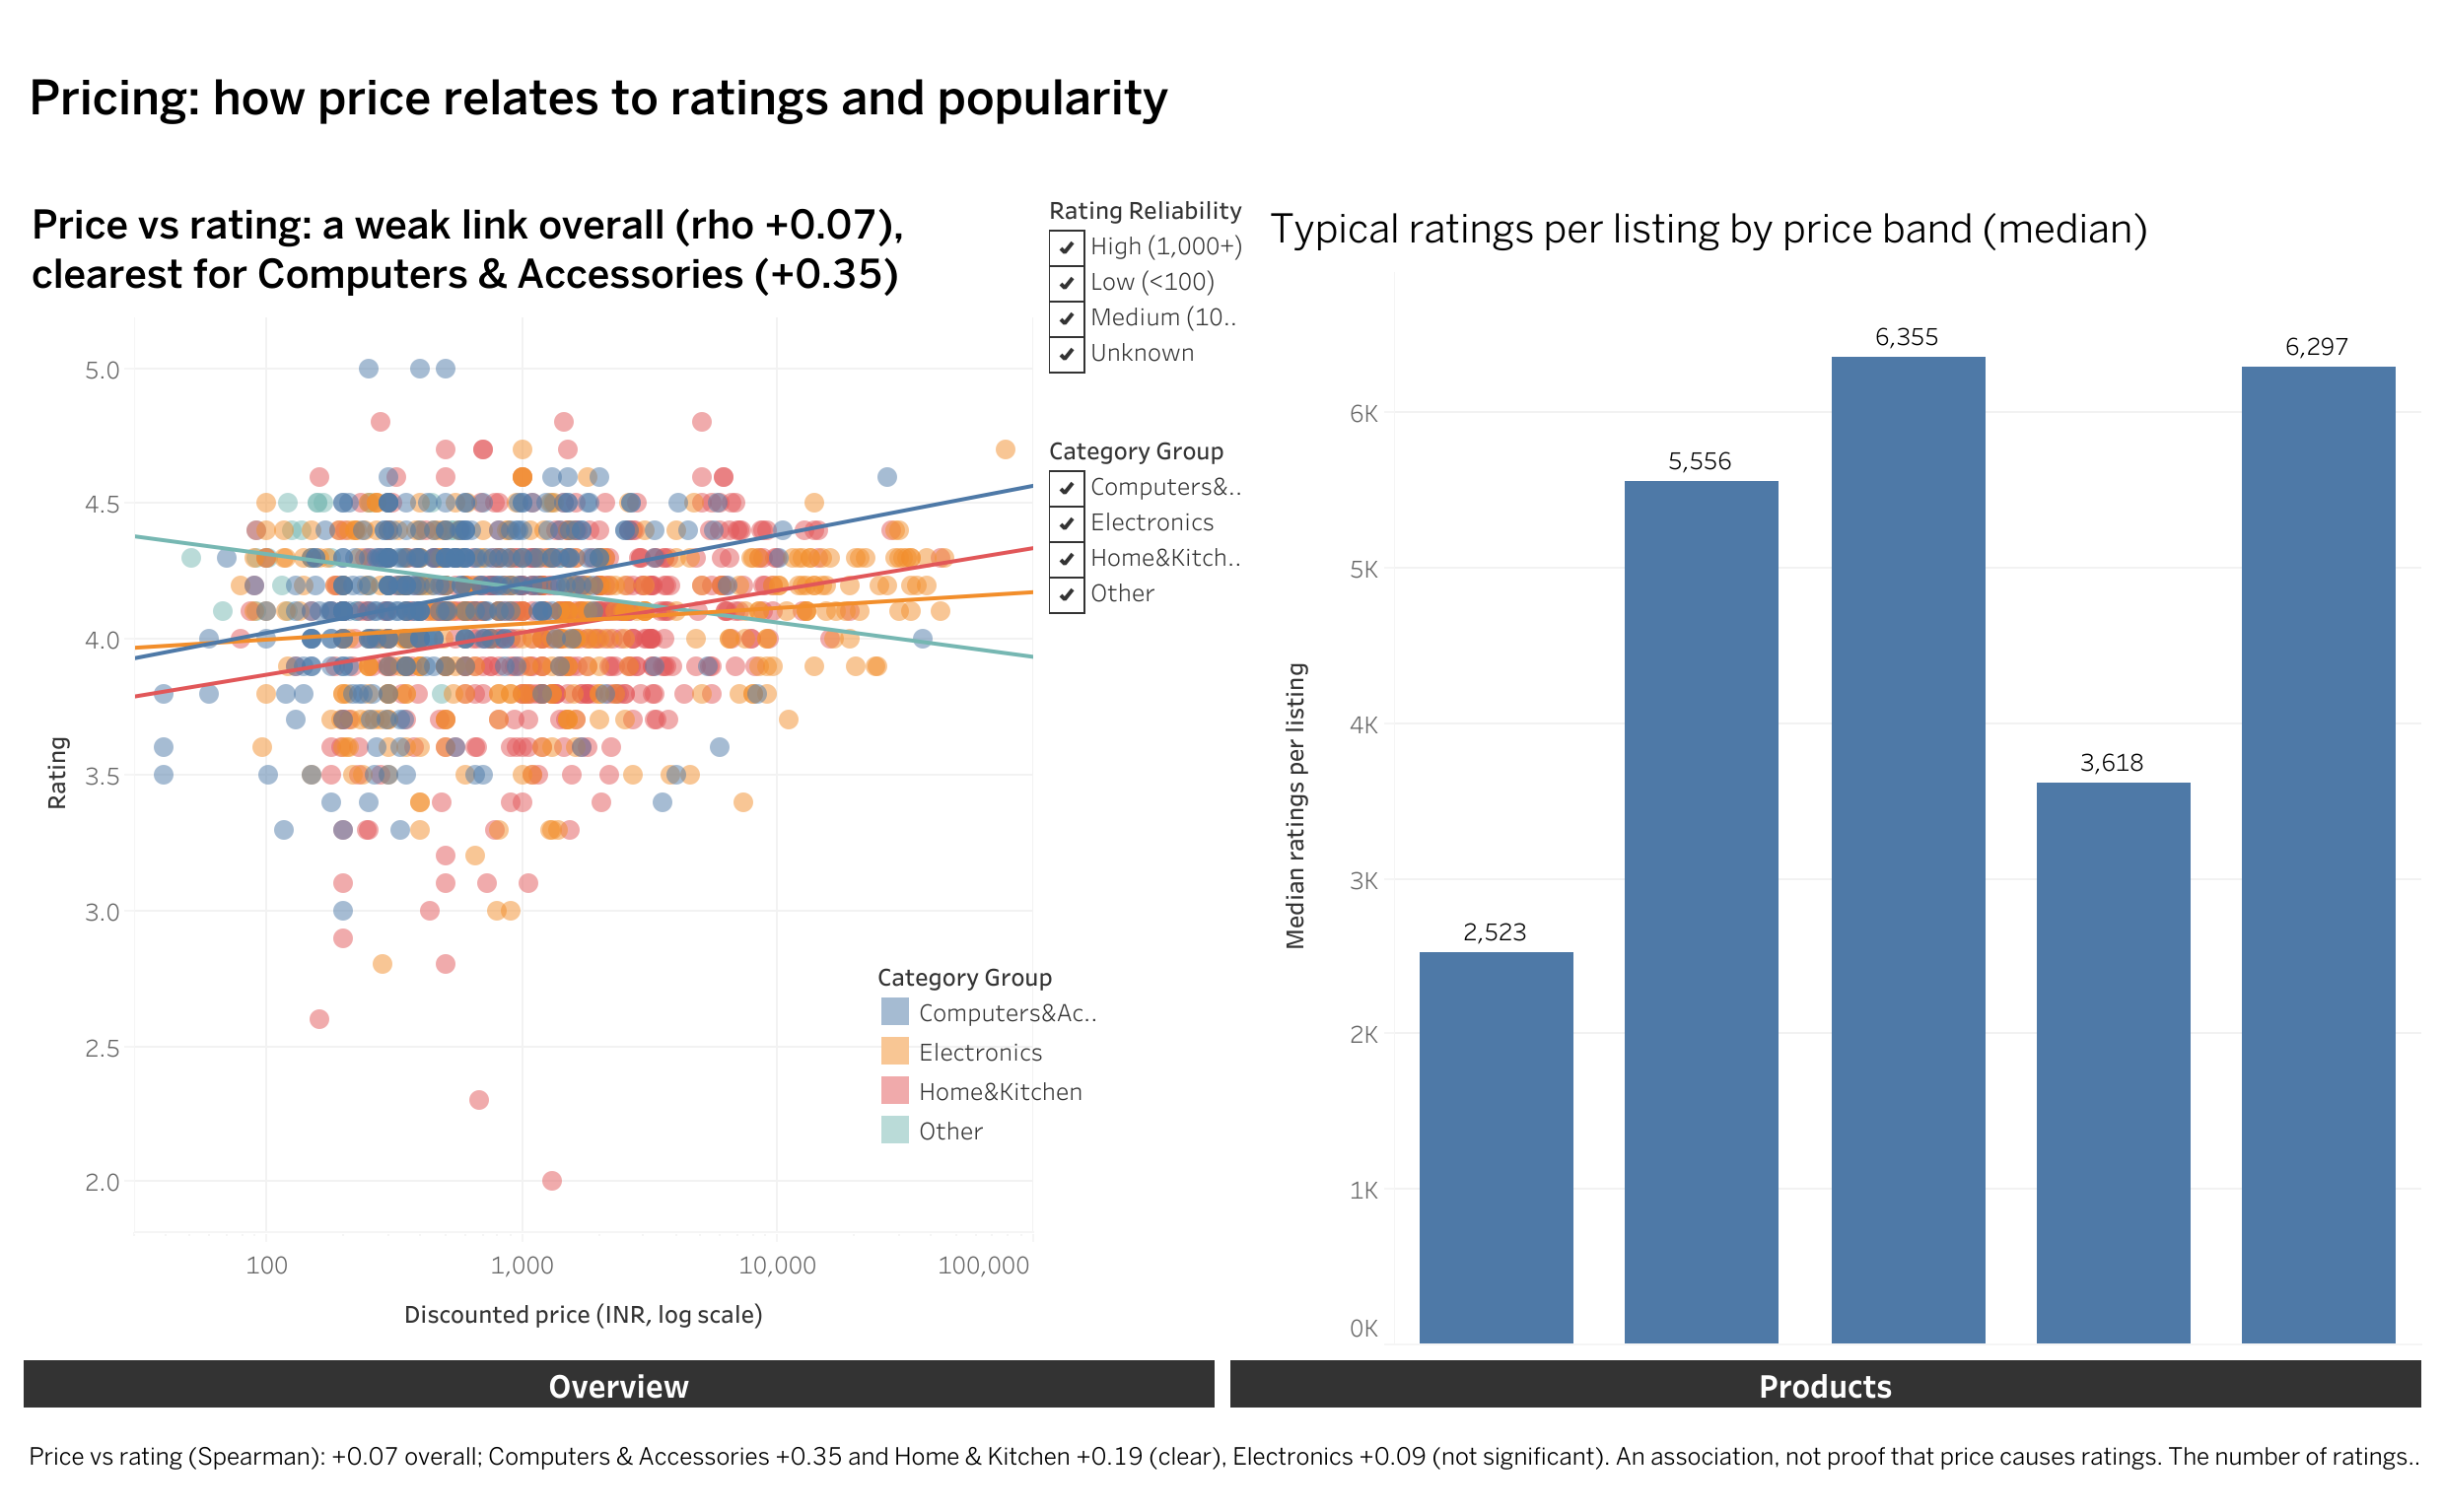

Layout of this report page (visuals, bound fields, positions):
{"tool":"tableau","page":{"name":"Pricing","canvas":[1000,1000],"units":"permille","ordinal":1},"visuals":[{"type":"title","box":[5.9,10.4,988.3,109.4]},{"type":"worksheet","title":"Price Vs Rating","mark":"Circle","rows":["rating"],"cols":["discounted_price"],"box":[5.9,119.8,457.3,773.4]},{"type":"filter","title":"Price Vs Rating","param":"[federated.1sc7opd0tyk4oe1c6oxqi0ae51db].[none:rating_reliability:nk]","box":[463.1,119.8,94.7,159]},{"type":"worksheet","title":"Popularity by price","mark":"Automatic","rows":["rating_count"],"cols":["price_bucket"],"box":[557.8,119.8,436.3,773.4]},{"type":"filter","title":"Price Vs Rating","param":"[federated.1sc7opd0tyk4oe1c6oxqi0ae51db].[none:category_group:nk]","box":[463.1,278.8,94.7,614.5]},{"type":"legend","title":"Price Vs Rating","param":"[federated.1sc7opd0tyk4oe1c6oxqi0ae51db].[none:category_group:nk]","box":[358,630.2,93.7,127.6]},{"type":"dashboard-object","box":[5.9,893.2,494.1,42]},{"type":"dashboard-object","box":[500,893.2,494.1,42]},{"type":"text","box":[5.9,935.2,988.3,54.4]}]}

Visuals, with their boxes on the dashboard's canvas, which has no fixed pixel size, in thousandths of its width and height (x1, y1, x2, y2). These are canvas units, not pixel positions in the 2443x1512 screenshot, which may show the page scaled, cropped or inside an application window:
title: (6,10,994,120)
"Price Vs Rating" worksheet (Circle marks): (6,120,463,893)
"Price Vs Rating" filter: (463,120,558,279)
"Popularity by price" worksheet: (558,120,994,893)
"Price Vs Rating" filter: (463,279,558,893)
"Price Vs Rating" legend: (358,630,452,758)
dashboard-object: (6,893,500,935)
dashboard-object: (500,893,994,935)
text: (6,935,994,990)
